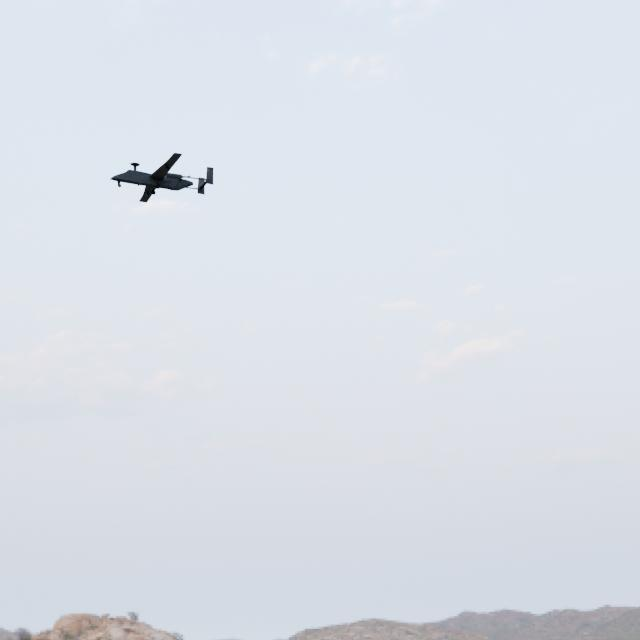Airaplan: (110, 153, 214, 203)
